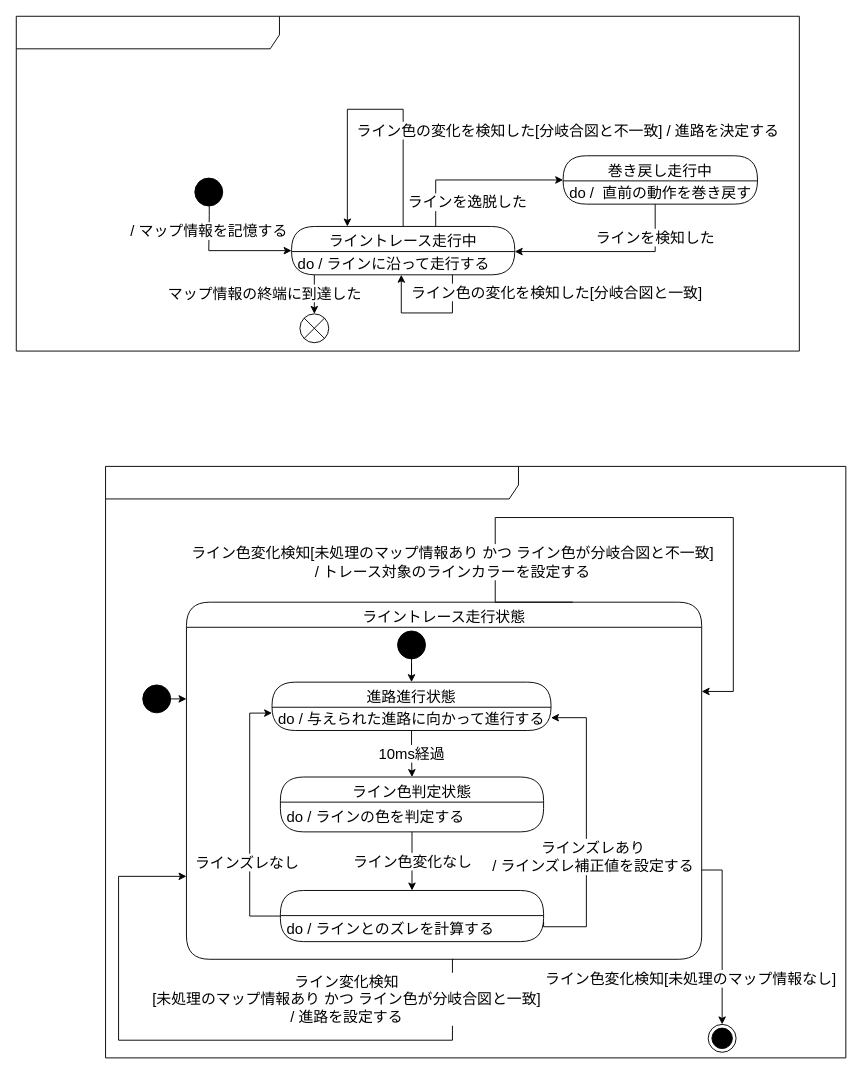
Some shapes in this 862 by 1074 pixel diagram are drawn without their labels. The shapes that lost their labels are listed below. From the top down, each one's box as (x1, y1, x2, y2) in pixels, then its label:
(15, 15, 799, 351): smd ダブルループにおける状態遷移
(105, 465, 846, 1058): smd ダブルループにおけるライントレース走行の状態遷移
(279, 890, 544, 942): ラインズレ判定状態
